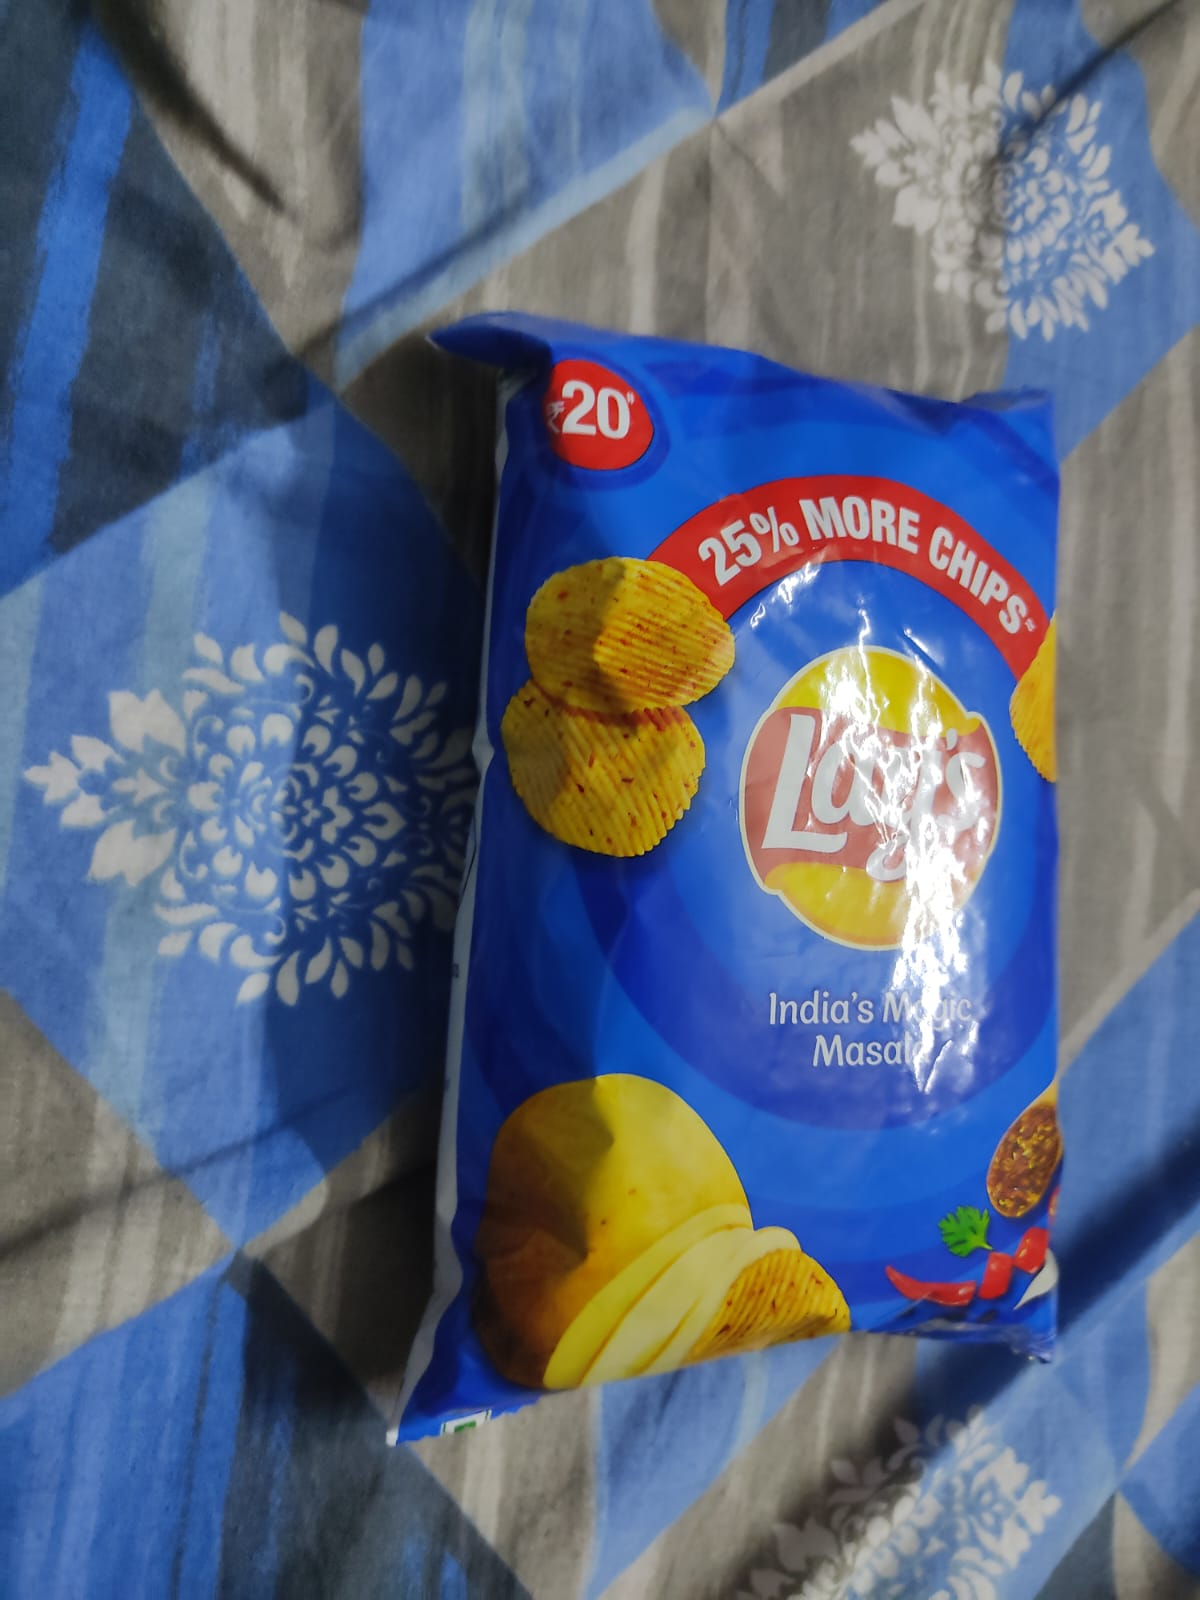020_BlueLays: (465, 317, 1058, 1361)
